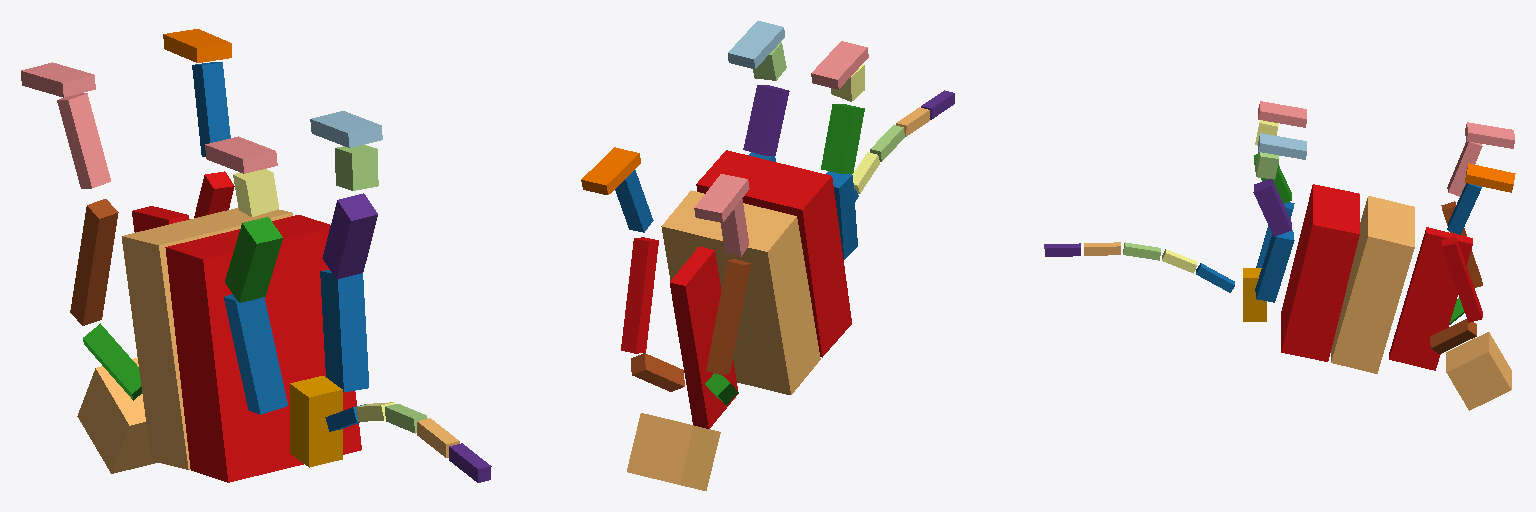
--- Render facts (derived) ---
Views: 3 orthographic renders of the robot side by side, from view 1: azimuth 30°, elevation 25°; view 2: azimuth 150°, elevation 25°; view 3: azimuth 270°, elevation 25°.
Robot: Wolf_Skeleton — 76 links, 75 joints (75 revolute); root link base_link; default pose: every joint at zero.
Links seen in each view (by area): view 1: link_136_Bauch_Y, link_137_Bauch.001_Y, link_139_Hals_Y, link_162_Oberschenkel_L_Y, link_167_Oberschenkel_R_Y, base_link, link_153_Oberarm_R_Y, link_168_Unterschenkel_R_Y, link_163_Unterschenkel_L_Y, link_154_Unterarm_R_Y, link_149_Unterarm_L_Y, link_152_Schalterplatte_R_Y (+12 smaller); view 2: link_137_Bauch.001_Y, link_136_Bauch_Y, link_138_Brust_Y, link_139_Hals_Y, link_148_Oberarm_L_Y, link_153_Oberarm_R_Y, link_163_Unterschenkel_L_Y, link_168_Unterschenkel_R_Y, link_150_Vorderpfote_L_Y, link_170_Pfote2_R_Y, link_165_Pfote2_L_Y, link_155_Vorderpfote_R_Y (+10 smaller); view 3: link_136_Bauch_Y, link_137_Bauch.001_Y, link_138_Brust_Y, link_139_Hals_Y, link_162_Oberschenkel_L_Y, link_148_Oberarm_L_Y, link_163_Unterschenkel_L_Y, base_link, link_150_Vorderpfote_L_Y, link_147_Schalterplatte_L_Y, link_155_Vorderpfote_R_Y, link_170_Pfote2_R_Y (+5 smaller).
Link boxes in pixels (<box>): link_136_Bauch_Y: <box>165,215,361,482</box>; link_137_Bauch.001_Y: <box>122,208,292,469</box>; link_139_Hals_Y: <box>77,358,157,473</box>; link_162_Oberschenkel_L_Y: <box>320,270,368,391</box>; link_167_Oberschenkel_R_Y: <box>224,294,287,414</box>; base_link: <box>290,376,342,467</box>; link_153_Oberarm_R_Y: <box>70,199,118,325</box>; link_168_Unterschenkel_R_Y: <box>225,217,282,302</box>; link_163_Unterschenkel_L_Y: <box>322,193,377,279</box>; link_154_Unterarm_R_Y: <box>57,93,110,188</box>; link_149_Unterarm_L_Y: <box>192,62,230,156</box>; link_152_Schalterplatte_R_Y: <box>83,323,141,400</box>; link_137_Bauch.001_Y: <box>661,190,820,394</box>; link_136_Bauch_Y: <box>696,150,851,357</box>; link_138_Brust_Y: <box>670,246,738,428</box>; link_139_Hals_Y: <box>627,413,720,490</box>; link_148_Oberarm_L_Y: <box>621,237,658,353</box>; link_153_Oberarm_R_Y: <box>706,259,750,374</box>; link_163_Unterschenkel_L_Y: <box>743,85,789,155</box>; link_168_Unterschenkel_R_Y: <box>821,104,864,173</box>; link_150_Vorderpfote_L_Y: <box>581,147,640,194</box>; link_170_Pfote2_R_Y: <box>811,41,868,89</box>; link_165_Pfote2_L_Y: <box>728,21,784,68</box>; link_155_Vorderpfote_R_Y: <box>694,174,749,222</box>; link_136_Bauch_Y: <box>1281,184,1359,361</box>; link_137_Bauch.001_Y: <box>1331,196,1414,373</box>; link_138_Brust_Y: <box>1389,227,1472,370</box>; link_139_Hals_Y: <box>1446,332,1511,410</box>; link_162_Oberschenkel_L_Y: <box>1255,230,1294,302</box>; link_148_Oberarm_L_Y: <box>1441,237,1482,322</box>; link_163_Unterschenkel_L_Y: <box>1253,179,1291,236</box>; base_link: <box>1243,268,1266,321</box>; link_150_Vorderpfote_L_Y: <box>1465,163,1515,192</box>; link_147_Schalterplatte_L_Y: <box>1430,319,1476,353</box>; link_155_Vorderpfote_R_Y: <box>1465,122,1514,148</box>; link_170_Pfote2_R_Y: <box>1258,101,1306,127</box>.
Size in the robot's own frame: 0.2654 by 0.9769 by 0.6378 metres.
Geometry: primitives only (box / cylinder / sphere), no mesh files.

robot.urdf — Wolf_Skeleton:
<?xml version='1.0' encoding='UTF-8'?>
<robot name="Wolf_Skeleton">
  <link name="base_link">
    <inertial>
      <origin xyz="0.0 0.0 0.0" rpy="0.0 -0.0 0.0"/>
      <mass value="1.0"/>
      <inertia ixx="1.0" ixy="0.0" ixz="0.0" iyy="1.0" iyz="0.0" izz="1.0"/>
    </inertial>
    <visual>
      <geometry>
        <box size="0.05 0.05 0.1 "/>
      </geometry>
      <origin xyz="0.0 0.03705602511763573 0.0" rpy="0.0 0.0 0.0"/>
    </visual>
    <collision>
      <geometry>
        <box size="0.05 0.05 0.1 "/>
      </geometry>
      <origin xyz="0.0 0.03705602511763573 0.0" rpy="0.0 0.0 0.0"/>
    </collision>
  </link>
  <link name="link_136_Bauch_R">
    <inertial>
      <origin xyz="0.0 0.0 0.0" rpy="0.0 -0.0 0.0"/>
      <mass value="1.0"/>
      <inertia ixx="1.0" ixy="0.0" ixz="0.0" iyy="1.0" iyz="0.0" izz="1.0"/>
    </inertial>
    <collision name="collision">
      <geometry>
        <sphere radius="0.05"/>
      </geometry>
      <origin xyz="0.0 0.0 0.0" rpy="0.0 -0.0 0.0"/>
    </collision>
  </link>
  <link name="link_136_Bauch_P">
    <inertial>
      <origin xyz="0.0 0.0 0.0" rpy="0.0 -0.0 0.0"/>
      <mass value="1.0"/>
      <inertia ixx="1.0" ixy="0.0" ixz="0.0" iyy="1.0" iyz="0.0" izz="1.0"/>
    </inertial>
    <collision name="collision">
      <geometry>
        <sphere radius="0.05"/>
      </geometry>
      <origin xyz="0.0 0.0 0.0" rpy="0.0 -0.0 0.0"/>
    </collision>
  </link>
  <link name="link_136_Bauch_Y">
    <inertial>
      <origin xyz="0.0 0.0 0.0" rpy="0.0 -0.0 0.0"/>
      <mass value="1.0"/>
      <inertia ixx="1.0" ixy="0.0" ixz="0.0" iyy="1.0" iyz="0.0" izz="1.0"/>
    </inertial>
    <visual>
      <geometry>
        <box size="0.2 0.1 0.3"/>
      </geometry>
      <material name="mat_col_(0.8901960784313725, 0.10196078431372549, 0.10980392156862745)"/>
      <origin xyz="0.0 0.05842259198427201 0.1" rpy="0.0 0.0 0.0"/>
    </visual>
    <collision>
      <geometry>
        <box size="0.2 0.1 0.3"/>
      </geometry>
      <origin xyz="0.0 0.05842259198427201 0.1" rpy="0.0 0.0 0.0"/>
    </collision>
  </link>
  <link name="link_137_Bauch.001_R">
    <inertial>
      <origin xyz="0.0 0.0 0.0" rpy="0.0 -0.0 0.0"/>
      <mass value="1.0"/>
      <inertia ixx="1.0" ixy="0.0" ixz="0.0" iyy="1.0" iyz="0.0" izz="1.0"/>
    </inertial>
    <collision name="collision">
      <geometry>
        <sphere radius="0.05"/>
      </geometry>
      <origin xyz="0.0 0.0 0.0" rpy="0.0 -0.0 0.0"/>
    </collision>
  </link>
  <link name="link_137_Bauch.001_P">
    <inertial>
      <origin xyz="0.0 0.0 0.0" rpy="0.0 -0.0 0.0"/>
      <mass value="1.0"/>
      <inertia ixx="1.0" ixy="0.0" ixz="0.0" iyy="1.0" iyz="0.0" izz="1.0"/>
    </inertial>
    <collision name="collision">
      <geometry>
        <sphere radius="0.05"/>
      </geometry>
      <origin xyz="0.0 0.0 0.0" rpy="0.0 -0.0 0.0"/>
    </collision>
  </link>
  <link name="link_137_Bauch.001_Y">
    <inertial>
      <origin xyz="0.0 0.0 0.0" rpy="0.0 -0.0 0.0"/>
      <mass value="1.0"/>
      <inertia ixx="1.0" ixy="0.0" ixz="0.0" iyy="1.0" iyz="0.0" izz="1.0"/>
    </inertial>
    <visual>
      <geometry>
        <box size="0.2 0.1 0.3"/>
      </geometry>
      <material name="mat_col_(0.9921568627450981, 0.7490196078431373, 0.43529411764705883)"/>
      <origin xyz="0.0 0.05777106463909149 0.1" rpy="0.0 0.0 0.0"/>
    </visual>
    <collision>
      <geometry>
        <box size="0.2 0.1 0.3"/>
      </geometry>
      <origin xyz="0.0 0.05777106463909149 0.1" rpy="0.0 0.0 0.0"/>
    </collision>
  </link>
  <link name="link_138_Brust_R">
    <inertial>
      <origin xyz="0.0 0.0 0.0" rpy="0.0 -0.0 0.0"/>
      <mass value="1.0"/>
      <inertia ixx="1.0" ixy="0.0" ixz="0.0" iyy="1.0" iyz="0.0" izz="1.0"/>
    </inertial>
    <collision name="collision">
      <geometry>
        <sphere radius="0.05"/>
      </geometry>
      <origin xyz="0.0 0.0 0.0" rpy="0.0 -0.0 0.0"/>
    </collision>
  </link>
  <link name="link_138_Brust_P">
    <inertial>
      <origin xyz="0.0 0.0 0.0" rpy="0.0 -0.0 0.0"/>
      <mass value="1.0"/>
      <inertia ixx="1.0" ixy="0.0" ixz="0.0" iyy="1.0" iyz="0.0" izz="1.0"/>
    </inertial>
    <collision name="collision">
      <geometry>
        <sphere radius="0.05"/>
      </geometry>
      <origin xyz="0.0 0.0 0.0" rpy="0.0 -0.0 0.0"/>
    </collision>
  </link>
  <link name="link_138_Brust_Y">
    <inertial>
      <origin xyz="0.0 0.0 0.0" rpy="0.0 -0.0 0.0"/>
      <mass value="1.0"/>
      <inertia ixx="1.0" ixy="0.0" ixz="0.0" iyy="1.0" iyz="0.0" izz="1.0"/>
    </inertial>
    <visual>
      <geometry>
        <box size="0.03 0.1  0.3 "/>
      </geometry>
      <material name="mat_col_(0.8901960784313725, 0.10196078431372549, 0.10980392156862745)"/>
      <origin xyz="0.0 0.07590883791446686 0.1" rpy="0.0 0.0 0.0"/>
    </visual>
    <collision>
      <geometry>
        <box size="0.03 0.1  0.3 "/>
      </geometry>
      <origin xyz="0.0 0.07590883791446686 0.1" rpy="0.0 0.0 0.0"/>
    </collision>
  </link>
  <link name="link_139_Hals_R">
    <inertial>
      <origin xyz="0.0 0.0 0.0" rpy="0.0 -0.0 0.0"/>
      <mass value="1.0"/>
      <inertia ixx="1.0" ixy="0.0" ixz="0.0" iyy="1.0" iyz="0.0" izz="1.0"/>
    </inertial>
    <collision name="collision">
      <geometry>
        <sphere radius="0.05"/>
      </geometry>
      <origin xyz="0.0 0.0 0.0" rpy="0.0 -0.0 0.0"/>
    </collision>
  </link>
  <link name="link_139_Hals_P">
    <inertial>
      <origin xyz="0.0 0.0 0.0" rpy="0.0 -0.0 0.0"/>
      <mass value="1.0"/>
      <inertia ixx="1.0" ixy="0.0" ixz="0.0" iyy="1.0" iyz="0.0" izz="1.0"/>
    </inertial>
    <collision name="collision">
      <geometry>
        <sphere radius="0.05"/>
      </geometry>
      <origin xyz="0.0 0.0 0.0" rpy="0.0 -0.0 0.0"/>
    </collision>
  </link>
  <link name="link_139_Hals_Y">
    <inertial>
      <origin xyz="0.0 0.0 0.0" rpy="0.0 -0.0 0.0"/>
      <mass value="1.0"/>
      <inertia ixx="1.0" ixy="0.0" ixz="0.0" iyy="1.0" iyz="0.0" izz="1.0"/>
    </inertial>
    <visual>
      <geometry>
        <box size="0.1 0.1 0.1"/>
      </geometry>
      <material name="mat_col_(0.9921568627450981, 0.7490196078431373, 0.43529411764705883)"/>
      <origin xyz="0.0 0.13 0.0" rpy="0.0 0.0 0.0"/>
    </visual>
    <collision>
      <geometry>
        <box size="0.1 0.1 0.1"/>
      </geometry>
      <origin xyz="0.0 0.13 0.0" rpy="0.0 0.0 0.0"/>
    </collision>
  </link>
  <link name="link_147_Schalterplatte_L_R">
    <inertial>
      <origin xyz="0.0 0.0 0.0" rpy="0.0 -0.0 0.0"/>
      <mass value="1.0"/>
      <inertia ixx="1.0" ixy="0.0" ixz="0.0" iyy="1.0" iyz="0.0" izz="1.0"/>
    </inertial>
    <collision name="collision">
      <geometry>
        <sphere radius="0.05"/>
      </geometry>
      <origin xyz="0.0 0.0 0.0" rpy="0.0 -0.0 0.0"/>
    </collision>
  </link>
  <link name="link_147_Schalterplatte_L_P">
    <inertial>
      <origin xyz="0.0 0.0 0.0" rpy="0.0 -0.0 0.0"/>
      <mass value="1.0"/>
      <inertia ixx="1.0" ixy="0.0" ixz="0.0" iyy="1.0" iyz="0.0" izz="1.0"/>
    </inertial>
    <collision name="collision">
      <geometry>
        <sphere radius="0.05"/>
      </geometry>
      <origin xyz="0.0 0.0 0.0" rpy="0.0 -0.0 0.0"/>
    </collision>
  </link>
  <link name="link_147_Schalterplatte_L_Y">
    <inertial>
      <origin xyz="0.0 0.0 0.0" rpy="0.0 -0.0 0.0"/>
      <mass value="1.0"/>
      <inertia ixx="1.0" ixy="0.0" ixz="0.0" iyy="1.0" iyz="0.0" izz="1.0"/>
    </inertial>
    <visual>
      <geometry>
        <box size="0.03 0.1  0.03"/>
      </geometry>
      <material name="mat_col_(0.6941176470588235, 0.34901960784313724, 0.1568627450980392)"/>
      <origin xyz="0.0 0.07660629540681839 0.0" rpy="0.0 0.0 0.0"/>
    </visual>
    <collision>
      <geometry>
        <box size="0.03 0.1  0.03"/>
      </geometry>
      <origin xyz="0.0 0.07660629540681839 0.0" rpy="0.0 0.0 0.0"/>
    </collision>
  </link>
  <link name="link_148_Oberarm_L_R">
    <inertial>
      <origin xyz="0.0 0.0 0.0" rpy="0.0 -0.0 0.0"/>
      <mass value="1.0"/>
      <inertia ixx="1.0" ixy="0.0" ixz="0.0" iyy="1.0" iyz="0.0" izz="1.0"/>
    </inertial>
    <collision name="collision">
      <geometry>
        <sphere radius="0.05"/>
      </geometry>
      <origin xyz="0.0 0.0 0.0" rpy="0.0 -0.0 0.0"/>
    </collision>
  </link>
  <link name="link_148_Oberarm_L_P">
    <inertial>
      <origin xyz="0.0 0.0 0.0" rpy="0.0 -0.0 0.0"/>
      <mass value="1.0"/>
      <inertia ixx="1.0" ixy="0.0" ixz="0.0" iyy="1.0" iyz="0.0" izz="1.0"/>
    </inertial>
    <collision name="collision">
      <geometry>
        <sphere radius="0.05"/>
      </geometry>
      <origin xyz="0.0 0.0 0.0" rpy="0.0 -0.0 0.0"/>
    </collision>
  </link>
  <link name="link_148_Oberarm_L_Y">
    <inertial>
      <origin xyz="0.0 0.0 0.0" rpy="0.0 -0.0 0.0"/>
      <mass value="1.0"/>
      <inertia ixx="1.0" ixy="0.0" ixz="0.0" iyy="1.0" iyz="0.0" izz="1.0"/>
    </inertial>
    <visual>
      <geometry>
        <box size="0.03       0.18659736 0.03      "/>
      </geometry>
      <material name="mat_col_(0.8901960784313725, 0.10196078431372549, 0.10980392156862745)"/>
      <origin xyz="0.0 0.10952453970909118 0.0" rpy="0.0 0.0 0.0"/>
    </visual>
    <collision>
      <geometry>
        <box size="0.03       0.18659736 0.03      "/>
      </geometry>
      <origin xyz="0.0 0.10952453970909118 0.0" rpy="0.0 0.0 0.0"/>
    </collision>
  </link>
  <link name="link_149_Unterarm_L_R">
    <inertial>
      <origin xyz="0.0 0.0 0.0" rpy="0.0 -0.0 0.0"/>
      <mass value="1.0"/>
      <inertia ixx="1.0" ixy="0.0" ixz="0.0" iyy="1.0" iyz="0.0" izz="1.0"/>
    </inertial>
    <collision name="collision">
      <geometry>
        <sphere radius="0.05"/>
      </geometry>
      <origin xyz="0.0 0.0 0.0" rpy="0.0 -0.0 0.0"/>
    </collision>
  </link>
  <link name="link_149_Unterarm_L_P">
    <inertial>
      <origin xyz="0.0 0.0 0.0" rpy="0.0 -0.0 0.0"/>
      <mass value="1.0"/>
      <inertia ixx="1.0" ixy="0.0" ixz="0.0" iyy="1.0" iyz="0.0" izz="1.0"/>
    </inertial>
    <collision name="collision">
      <geometry>
        <sphere radius="0.05"/>
      </geometry>
      <origin xyz="0.0 0.0 0.0" rpy="0.0 -0.0 0.0"/>
    </collision>
  </link>
  <link name="link_149_Unterarm_L_Y">
    <inertial>
      <origin xyz="0.0 0.0 0.0" rpy="0.0 -0.0 0.0"/>
      <mass value="1.0"/>
      <inertia ixx="1.0" ixy="0.0" ixz="0.0" iyy="1.0" iyz="0.0" izz="1.0"/>
    </inertial>
    <visual>
      <geometry>
        <box size="0.03 0.12 0.03"/>
      </geometry>
      <material name="mat_col_(0.12156862745098039, 0.47058823529411764, 0.7058823529411765)"/>
      <origin xyz="0.0 0.09212116599082946 0.0" rpy="0.0 0.0 0.0"/>
    </visual>
    <collision>
      <geometry>
        <box size="0.03 0.12 0.03"/>
      </geometry>
      <origin xyz="0.0 0.09212116599082946 0.0" rpy="0.0 0.0 0.0"/>
    </collision>
  </link>
  <link name="link_150_Vorderpfote_L_R">
    <inertial>
      <origin xyz="0.0 0.0 0.0" rpy="0.0 -0.0 0.0"/>
      <mass value="1.0"/>
      <inertia ixx="1.0" ixy="0.0" ixz="0.0" iyy="1.0" iyz="0.0" izz="1.0"/>
    </inertial>
    <collision name="collision">
      <geometry>
        <sphere radius="0.05"/>
      </geometry>
      <origin xyz="0.0 0.0 0.0" rpy="0.0 -0.0 0.0"/>
    </collision>
  </link>
  <link name="link_150_Vorderpfote_L_P">
    <inertial>
      <origin xyz="0.0 0.0 0.0" rpy="0.0 -0.0 0.0"/>
      <mass value="1.0"/>
      <inertia ixx="1.0" ixy="0.0" ixz="0.0" iyy="1.0" iyz="0.0" izz="1.0"/>
    </inertial>
    <collision name="collision">
      <geometry>
        <sphere radius="0.05"/>
      </geometry>
      <origin xyz="0.0 0.0 0.0" rpy="0.0 -0.0 0.0"/>
    </collision>
  </link>
  <link name="link_150_Vorderpfote_L_Y">
    <inertial>
      <origin xyz="0.0 0.0 0.0" rpy="0.0 -0.0 0.0"/>
      <mass value="1.0"/>
      <inertia ixx="1.0" ixy="0.0" ixz="0.0" iyy="1.0" iyz="0.0" izz="1.0"/>
    </inertial>
    <visual>
      <geometry>
        <box size="0.05 0.1  0.02"/>
      </geometry>
      <material name="mat_col_(1.0, 0.4980392156862745, 0.0)"/>
      <origin xyz="0.0 0.02431945167481899 0.0" rpy="0.0 0.0 0.0"/>
    </visual>
    <collision>
      <geometry>
        <box size="0.05 0.1  0.02"/>
      </geometry>
      <origin xyz="0.0 0.02431945167481899 0.0" rpy="0.0 0.0 0.0"/>
    </collision>
  </link>
  <link name="link_152_Schalterplatte_R_R">
    <inertial>
      <origin xyz="0.0 0.0 0.0" rpy="0.0 -0.0 0.0"/>
      <mass value="1.0"/>
      <inertia ixx="1.0" ixy="0.0" ixz="0.0" iyy="1.0" iyz="0.0" izz="1.0"/>
    </inertial>
    <collision name="collision">
      <geometry>
        <sphere radius="0.05"/>
      </geometry>
      <origin xyz="0.0 0.0 0.0" rpy="0.0 -0.0 0.0"/>
    </collision>
  </link>
  <link name="link_152_Schalterplatte_R_P">
    <inertial>
      <origin xyz="0.0 0.0 0.0" rpy="0.0 -0.0 0.0"/>
      <mass value="1.0"/>
      <inertia ixx="1.0" ixy="0.0" ixz="0.0" iyy="1.0" iyz="0.0" izz="1.0"/>
    </inertial>
    <collision name="collision">
      <geometry>
        <sphere radius="0.05"/>
      </geometry>
      <origin xyz="0.0 0.0 0.0" rpy="0.0 -0.0 0.0"/>
    </collision>
  </link>
  <link name="link_152_Schalterplatte_R_Y">
    <inertial>
      <origin xyz="0.0 0.0 0.0" rpy="0.0 -0.0 0.0"/>
      <mass value="1.0"/>
      <inertia ixx="1.0" ixy="0.0" ixz="0.0" iyy="1.0" iyz="0.0" izz="1.0"/>
    </inertial>
    <visual>
      <geometry>
        <box size="0.03 0.1  0.03"/>
      </geometry>
      <material name="mat_col_(0.2, 0.6274509803921569, 0.17254901960784313)"/>
      <origin xyz="0.0 0.07660628736019134 0.0" rpy="0.0 0.0 0.0"/>
    </visual>
    <collision>
      <geometry>
        <box size="0.03 0.1  0.03"/>
      </geometry>
      <origin xyz="0.0 0.07660628736019134 0.0" rpy="0.0 0.0 0.0"/>
    </collision>
  </link>
  <link name="link_153_Oberarm_R_R">
    <inertial>
      <origin xyz="0.0 0.0 0.0" rpy="0.0 -0.0 0.0"/>
      <mass value="1.0"/>
      <inertia ixx="1.0" ixy="0.0" ixz="0.0" iyy="1.0" iyz="0.0" izz="1.0"/>
    </inertial>
    <collision name="collision">
      <geometry>
        <sphere radius="0.05"/>
      </geometry>
      <origin xyz="0.0 0.0 0.0" rpy="0.0 -0.0 0.0"/>
    </collision>
  </link>
  <link name="link_153_Oberarm_R_P">
    <inertial>
      <origin xyz="0.0 0.0 0.0" rpy="0.0 -0.0 0.0"/>
      <mass value="1.0"/>
      <inertia ixx="1.0" ixy="0.0" ixz="0.0" iyy="1.0" iyz="0.0" izz="1.0"/>
    </inertial>
    <collision name="collision">
      <geometry>
        <sphere radius="0.05"/>
      </geometry>
      <origin xyz="0.0 0.0 0.0" rpy="0.0 -0.0 0.0"/>
    </collision>
  </link>
  <link name="link_153_Oberarm_R_Y">
    <inertial>
      <origin xyz="0.0 0.0 0.0" rpy="0.0 -0.0 0.0"/>
      <mass value="1.0"/>
      <inertia ixx="1.0" ixy="0.0" ixz="0.0" iyy="1.0" iyz="0.0" izz="1.0"/>
    </inertial>
    <visual>
      <geometry>
        <box size="0.03       0.18659745 0.03      "/>
      </geometry>
      <material name="mat_col_(0.6941176470588235, 0.34901960784313724, 0.1568627450980392)"/>
      <origin xyz="0.0 0.10952458798885345 0.0" rpy="0.0 0.0 0.0"/>
    </visual>
    <collision>
      <geometry>
        <box size="0.03       0.18659745 0.03      "/>
      </geometry>
      <origin xyz="0.0 0.10952458798885345 0.0" rpy="0.0 0.0 0.0"/>
    </collision>
  </link>
  <link name="link_154_Unterarm_R_R">
    <inertial>
      <origin xyz="0.0 0.0 0.0" rpy="0.0 -0.0 0.0"/>
      <mass value="1.0"/>
      <inertia ixx="1.0" ixy="0.0" ixz="0.0" iyy="1.0" iyz="0.0" izz="1.0"/>
    </inertial>
    <collision name="collision">
      <geometry>
        <sphere radius="0.05"/>
      </geometry>
      <origin xyz="0.0 0.0 0.0" rpy="0.0 -0.0 0.0"/>
    </collision>
  </link>
  <link name="link_154_Unterarm_R_P">
    <inertial>
      <origin xyz="0.0 0.0 0.0" rpy="0.0 -0.0 0.0"/>
      <mass value="1.0"/>
      <inertia ixx="1.0" ixy="0.0" ixz="0.0" iyy="1.0" iyz="0.0" izz="1.0"/>
    </inertial>
    <collision name="collision">
      <geometry>
        <sphere radius="0.05"/>
      </geometry>
      <origin xyz="0.0 0.0 0.0" rpy="0.0 -0.0 0.0"/>
    </collision>
  </link>
  <link name="link_154_Unterarm_R_Y">
    <inertial>
      <origin xyz="0.0 0.0 0.0" rpy="0.0 -0.0 0.0"/>
      <mass value="1.0"/>
      <inertia ixx="1.0" ixy="0.0" ixz="0.0" iyy="1.0" iyz="0.0" izz="1.0"/>
    </inertial>
    <visual>
      <geometry>
        <box size="0.03 0.12 0.03"/>
      </geometry>
      <material name="mat_col_(0.984313725490196, 0.6039215686274509, 0.6)"/>
      <origin xyz="0.0 0.0921206670999527 0.0" rpy="0.0 0.0 0.0"/>
    </visual>
    <collision>
      <geometry>
        <box size="0.03 0.12 0.03"/>
      </geometry>
      <origin xyz="0.0 0.0921206670999527 0.0" rpy="0.0 0.0 0.0"/>
    </collision>
  </link>
  <link name="link_155_Vorderpfote_R_R">
    <inertial>
      <origin xyz="0.0 0.0 0.0" rpy="0.0 -0.0 0.0"/>
      <mass value="1.0"/>
      <inertia ixx="1.0" ixy="0.0" ixz="0.0" iyy="1.0" iyz="0.0" izz="1.0"/>
    </inertial>
    <collision name="collision">
      <geometry>
        <sphere radius="0.05"/>
      </geometry>
      <origin xyz="0.0 0.0 0.0" rpy="0.0 -0.0 0.0"/>
    </collision>
  </link>
  <link name="link_155_Vorderpfote_R_P">
    <inertial>
      <origin xyz="0.0 0.0 0.0" rpy="0.0 -0.0 0.0"/>
      <mass value="1.0"/>
      <inertia ixx="1.0" ixy="0.0" ixz="0.0" iyy="1.0" iyz="0.0" izz="1.0"/>
    </inertial>
    <collision name="collision">
      <geometry>
        <sphere radius="0.05"/>
      </geometry>
      <origin xyz="0.0 0.0 0.0" rpy="0.0 -0.0 0.0"/>
    </collision>
  </link>
  <link name="link_155_Vorderpfote_R_Y">
    <inertial>
      <origin xyz="0.0 0.0 0.0" rpy="0.0 -0.0 0.0"/>
      <mass value="1.0"/>
      <inertia ixx="1.0" ixy="0.0" ixz="0.0" iyy="1.0" iyz="0.0" izz="1.0"/>
    </inertial>
    <visual>
      <geometry>
        <box size="0.05 0.1  0.02"/>
      </geometry>
      <material name="mat_col_(0.984313725490196, 0.6039215686274509, 0.6)"/>
      <origin xyz="0.0 0.024320004880428313 0.0" rpy="0.0 0.0 0.0"/>
    </visual>
    <collision>
      <geometry>
        <box size="0.05 0.1  0.02"/>
      </geometry>
      <origin xyz="0.0 0.024320004880428313 0.0" rpy="0.0 0.0 0.0"/>
    </collision>
  </link>
  <link name="link_157_Schwanz_R">
    <inertial>
      <origin xyz="0.0 0.0 0.0" rpy="0.0 -0.0 0.0"/>
      <mass value="1.0"/>
      <inertia ixx="1.0" ixy="0.0" ixz="0.0" iyy="1.0" iyz="0.0" izz="1.0"/>
    </inertial>
    <collision name="collision">
      <geometry>
        <sphere radius="0.05"/>
      </geometry>
      <origin xyz="0.0 0.0 0.0" rpy="0.0 -0.0 0.0"/>
    </collision>
  </link>
  <link name="link_157_Schwanz_P">
    <inertial>
      <origin xyz="0.0 0.0 0.0" rpy="0.0 -0.0 0.0"/>
      <mass value="1.0"/>
      <inertia ixx="1.0" ixy="0.0" ixz="0.0" iyy="1.0" iyz="0.0" izz="1.0"/>
    </inertial>
    <collision name="collision">
      <geometry>
        <sphere radius="0.05"/>
      </geometry>
      <origin xyz="0.0 0.0 0.0" rpy="0.0 -0.0 0.0"/>
    </collision>
  </link>
  <link name="link_157_Schwanz_Y">
    <inertial>
      <origin xyz="0.0 0.0 0.0" rpy="0.0 -0.0 0.0"/>
      <mass value="1.0"/>
      <inertia ixx="1.0" ixy="0.0" ixz="0.0" iyy="1.0" iyz="0.0" izz="1.0"/>
    </inertial>
    <visual>
      <geometry>
        <box size="0.02       0.08375949 0.02      "/>
      </geometry>
      <material name="mat_col_(0.12156862745098039, 0.47058823529411764, 0.7058823529411765)"/>
      <origin xyz="0.0 0.04916317731142044 0.0" rpy="0.0 0.0 0.0"/>
    </visual>
    <collision>
      <geometry>
        <box size="0.02       0.08375949 0.02      "/>
      </geometry>
      <origin xyz="0.0 0.04916317731142044 0.0" rpy="0.0 0.0 0.0"/>
    </collision>
  </link>
  <link name="link_158_Schwanz.001_R">
    <inertial>
      <origin xyz="0.0 0.0 0.0" rpy="0.0 -0.0 0.0"/>
      <mass value="1.0"/>
      <inertia ixx="1.0" ixy="0.0" ixz="0.0" iyy="1.0" iyz="0.0" izz="1.0"/>
    </inertial>
    <collision name="collision">
      <geometry>
        <sphere radius="0.05"/>
      </geometry>
      <origin xyz="0.0 0.0 0.0" rpy="0.0 -0.0 0.0"/>
    </collision>
  </link>
  <link name="link_158_Schwanz.001_P">
    <inertial>
      <origin xyz="0.0 0.0 0.0" rpy="0.0 -0.0 0.0"/>
      <mass value="1.0"/>
      <inertia ixx="1.0" ixy="0.0" ixz="0.0" iyy="1.0" iyz="0.0" izz="1.0"/>
    </inertial>
    <collision name="collision">
      <geometry>
        <sphere radius="0.05"/>
      </geometry>
      <origin xyz="0.0 0.0 0.0" rpy="0.0 -0.0 0.0"/>
    </collision>
  </link>
  <link name="link_158_Schwanz.001_Y">
    <inertial>
      <origin xyz="0.0 0.0 0.0" rpy="0.0 -0.0 0.0"/>
      <mass value="1.0"/>
      <inertia ixx="1.0" ixy="0.0" ixz="0.0" iyy="1.0" iyz="0.0" izz="1.0"/>
    </inertial>
    <visual>
      <geometry>
        <box size="0.02       0.07227241 0.02      "/>
      </geometry>
      <material name="mat_col_(1.0, 1.0, 0.6)"/>
      <origin xyz="0.0 0.04242076367139816 0.0" rpy="0.0 0.0 0.0"/>
    </visual>
    <collision>
      <geometry>
        <box size="0.02       0.07227241 0.02      "/>
      </geometry>
      <origin xyz="0.0 0.04242076367139816 0.0" rpy="0.0 0.0 0.0"/>
    </collision>
  </link>
  <link name="link_159_Schwanz.002_R">
    <inertial>
      <origin xyz="0.0 0.0 0.0" rpy="0.0 -0.0 0.0"/>
      <mass value="1.0"/>
      <inertia ixx="1.0" ixy="0.0" ixz="0.0" iyy="1.0" iyz="0.0" izz="1.0"/>
    </inertial>
    <collision name="collision">
      <geometry>
        <sphere radius="0.05"/>
      </geometry>
      <origin xyz="0.0 0.0 0.0" rpy="0.0 -0.0 0.0"/>
    </collision>
  </link>
  <link name="link_159_Schwanz.002_P">
    <inertial>
      <origin xyz="0.0 0.0 0.0" rpy="0.0 -0.0 0.0"/>
      <mass value="1.0"/>
      <inertia ixx="1.0" ixy="0.0" ixz="0.0" iyy="1.0" iyz="0.0" izz="1.0"/>
    </inertial>
    <collision name="collision">
      <geometry>
        <sphere radius="0.05"/>
      </geometry>
      <origin xyz="0.0 0.0 0.0" rpy="0.0 -0.0 0.0"/>
    </collision>
  </link>
  <link name="link_159_Schwanz.002_Y">
    <inertial>
      <origin xyz="0.0 0.0 0.0" rpy="0.0 -0.0 0.0"/>
      <mass value="1.0"/>
      <inertia ixx="1.0" ixy="0.0" ixz="0.0" iyy="1.0" iyz="0.0" izz="1.0"/>
    </inertial>
    <visual>
      <geometry>
        <box size="0.02       0.07682311 0.02      "/>
      </geometry>
      <material name="mat_col_(0.6980392156862745, 0.8745098039215686, 0.5411764705882353)"/>
      <origin xyz="0.0 0.04509182542562485 0.0" rpy="0.0 0.0 0.0"/>
    </visual>
    <collision>
      <geometry>
        <box size="0.02       0.07682311 0.02      "/>
      </geometry>
      <origin xyz="0.0 0.04509182542562485 0.0" rpy="0.0 0.0 0.0"/>
    </collision>
  </link>
  <link name="link_160_Schwanz.003_R">
    <inertial>
      <origin xyz="0.0 0.0 0.0" rpy="0.0 -0.0 0.0"/>
      <mass value="1.0"/>
      <inertia ixx="1.0" ixy="0.0" ixz="0.0" iyy="1.0" iyz="0.0" izz="1.0"/>
    </inertial>
    <collision name="collision">
      <geometry>
        <sphere radius="0.05"/>
      </geometry>
      <origin xyz="0.0 0.0 0.0" rpy="0.0 -0.0 0.0"/>
    </collision>
  </link>
  <link name="link_160_Schwanz.003_P">
    <inertial>
      <origin xyz="0.0 0.0 0.0" rpy="0.0 -0.0 0.0"/>
      <mass value="1.0"/>
      <inertia ixx="1.0" ixy="0.0" ixz="0.0" iyy="1.0" iyz="0.0" izz="1.0"/>
    </inertial>
    <collision name="collision">
      <geometry>
        <sphere radius="0.05"/>
      </geometry>
      <origin xyz="0.0 0.0 0.0" rpy="0.0 -0.0 0.0"/>
    </collision>
  </link>
  <link name="link_160_Schwanz.003_Y">
    <inertial>
      <origin xyz="0.0 0.0 0.0" rpy="0.0 -0.0 0.0"/>
      <mass value="1.0"/>
      <inertia ixx="1.0" ixy="0.0" ixz="0.0" iyy="1.0" iyz="0.0" izz="1.0"/>
    </inertial>
    <visual>
      <geometry>
        <box size="0.02       0.07566371 0.02      "/>
      </geometry>
      <material name="mat_col_(0.9921568627450981, 0.7490196078431373, 0.43529411764705883)"/>
      <origin xyz="0.0 0.04441130608320236 0.0" rpy="0.0 0.0 0.0"/>
    </visual>
    <collision>
      <geometry>
        <box size="0.02       0.07566371 0.02      "/>
      </geometry>
      <origin xyz="0.0 0.04441130608320236 0.0" rpy="0.0 0.0 0.0"/>
    </collision>
  </link>
  <link name="link_161_Schwanz.003_end_R">
    <inertial>
      <origin xyz="0.0 0.0 0.0" rpy="0.0 -0.0 0.0"/>
      <mass value="1.0"/>
      <inertia ixx="1.0" ixy="0.0" ixz="0.0" iyy="1.0" iyz="0.0" izz="1.0"/>
    </inertial>
    <collision name="collision">
      <geometry>
        <sphere radius="0.05"/>
      </geometry>
      <origin xyz="0.0 0.0 0.0" rpy="0.0 -0.0 0.0"/>
    </collision>
  </link>
  <link name="link_161_Schwanz.003_end_P">
    <inertial>
      <origin xyz="0.0 0.0 0.0" rpy="0.0 -0.0 0.0"/>
      <mass value="1.0"/>
      <inertia ixx="1.0" ixy="0.0" ixz="0.0" iyy="1.0" iyz="0.0" izz="1.0"/>
    </inertial>
    <collision name="collision">
      <geometry>
        <sphere radius="0.05"/>
      </geometry>
      <origin xyz="0.0 0.0 0.0" rpy="0.0 -0.0 0.0"/>
    </collision>
  </link>
  <link name="link_161_Schwanz.003_end_Y">
    <inertial>
      <origin xyz="0.0 0.0 0.0" rpy="0.0 -0.0 0.0"/>
      <mass value="1.0"/>
      <inertia ixx="1.0" ixy="0.0" ixz="0.0" iyy="1.0" iyz="0.0" izz="1.0"/>
    </inertial>
    <visual>
      <geometry>
        <box size="0.02       0.07566356 0.02      "/>
      </geometry>
      <material name="mat_col_(0.41568627450980394, 0.23921568627450981, 0.6039215686274509)"/>
      <origin xyz="0.0 0.04441122159361839 0.0" rpy="0.0 0.0 0.0"/>
    </visual>
    <collision>
      <geometry>
        <box size="0.02       0.07566356 0.02      "/>
      </geometry>
      <origin xyz="0.0 0.04441122159361839 0.0" rpy="0.0 0.0 0.0"/>
    </collision>
  </link>
  <link name="link_162_Oberschenkel_L_R">
    <inertial>
      <origin xyz="0.0 0.0 0.0" rpy="0.0 -0.0 0.0"/>
      <mass value="1.0"/>
      <inertia ixx="1.0" ixy="0.0" ixz="0.0" iyy="1.0" iyz="0.0" izz="1.0"/>
    </inertial>
    <collision name="collision">
      <geometry>
        <sphere radius="0.05"/>
      </geometry>
      <origin xyz="0.0 0.0 0.0" rpy="0.0 -0.0 0.0"/>
    </collision>
  </link>
  <link name="link_162_Oberschenkel_L_P">
    <inertial>
      <origin xyz="0.0 0.0 0.0" rpy="0.0 -0.0 0.0"/>
      <mass value="1.0"/>
      <inertia ixx="1.0" ixy="0.0" ixz="0.0" iyy="1.0" iyz="0.0" izz="1.0"/>
    </inertial>
    <collision name="collision">
      <geometry>
        <sphere radius="0.05"/>
      </geometry>
      <origin xyz="0.0 0.0 0.0" rpy="0.0 -0.0 0.0"/>
    </collision>
  </link>
  <link name="link_162_Oberschenkel_L_Y">
    <inertial>
      <origin xyz="0.0 0.0 0.0" rpy="0.0 -0.0 0.0"/>
      <mass value="1.0"/>
      <inertia ixx="1.0" ixy="0.0" ixz="0.0" iyy="1.0" iyz="0.0" izz="1.0"/>
    </inertial>
    <visual>
      <geometry>
        <box size="0.04       0.15515257 0.04      "/>
      </geometry>
      <material name="mat_col_(0.12156862745098039, 0.47058823529411764, 0.7058823529411765)"/>
      <origin xyz="0.0 0.09106781423091888 0.0" rpy="0.0 0.0 0.0"/>
    </visual>
    <collision>
      <geometry>
        <box size="0.04       0.15515257 0.04      "/>
      </geometry>
      <origin xyz="0.0 0.09106781423091888 0.0" rpy="0.0 0.0 0.0"/>
    </collision>
  </link>
  <link name="link_163_Unterschenkel_L_R">
    <inertial>
      <origin xyz="0.0 0.0 0.0" rpy="0.0 -0.0 0.0"/>
      <mass value="1.0"/>
      <inertia ixx="1.0" ixy="0.0" ixz="0.0" iyy="1.0" iyz="0.0" izz="1.0"/>
    </inertial>
    <collision name="collision">
      <geometry>
        <sphere radius="0.05"/>
      </geometry>
      <origin xyz="0.0 0.0 0.0" rpy="0.0 -0.0 0.0"/>
    </collision>
  </link>
  <link name="link_163_Unterschenkel_L_P">
    <inertial>
      <origin xyz="0.0 0.0 0.0" rpy="0.0 -0.0 0.0"/>
      <mass value="1.0"/>
      <inertia ixx="1.0" ixy="0.0" ixz="0.0" iyy="1.0" iyz="0.0" izz="1.0"/>
    </inertial>
    <collision name="collision">
      <geometry>
        <sphere radius="0.05"/>
      </geometry>
      <origin xyz="0.0 0.0 0.0" rpy="0.0 -0.0 0.0"/>
    </collision>
  </link>
  <link name="link_163_Unterschenkel_L_Y">
    <inertial>
      <origin xyz="0.0 0.0 0.0" rpy="0.0 -0.0 0.0"/>
      <mass value="1.0"/>
      <inertia ixx="1.0" ixy="0.0" ixz="0.0" iyy="1.0" iyz="0.0" izz="1.0"/>
    </inertial>
    <visual>
      <geometry>
        <box size="0.04       0.10956304 0.04      "/>
      </geometry>
      <material name="mat_col_(0.41568627450980394, 0.23921568627450981, 0.6039215686274509)"/>
      <origin xyz="0.0 0.064308739900589 0.0" rpy="0.0 0.0 0.0"/>
    </visual>
    <collision>
      <geometry>
        <box size="0.04       0.10956304 0.04      "/>
      </geometry>
      <origin xyz="0.0 0.064308739900589 0.0" rpy="0.0 0.0 0.0"/>
    </collision>
  </link>
  <link name="link_164_Pfote1_L_R">
    <inertial>
      <origin xyz="0.0 0.0 0.0" rpy="0.0 -0.0 0.0"/>
      <mass value="1.0"/>
      <inertia ixx="1.0" ixy="0.0" ixz="0.0" iyy="1.0" iyz="0.0" izz="1.0"/>
    </inertial>
    <collision name="collision">
      <geometry>
        <sphere radius="0.05"/>
      </geometry>
      <origin xyz="0.0 0.0 0.0" rpy="0.0 -0.0 0.0"/>
    </collision>
  </link>
  <link name="link_164_Pfote1_L_P">
    <inertial>
      <origin xyz="0.0 0.0 0.0" rpy="0.0 -0.0 0.0"/>
      <mass value="1.0"/>
      <inertia ixx="1.0" ixy="0.0" ixz="0.0" iyy="1.0" iyz="0.0" izz="1.0"/>
    </inertial>
    <collision name="collision">
      <geometry>
        <sphere radius="0.05"/>
      </geometry>
      <origin xyz="0.0 0.0 0.0" rpy="0.0 -0.0 0.0"/>
    </collision>
  </link>
  <link name="link_164_Pfote1_L_Y">
    <inertial>
      <origin xyz="0.0 0.0 0.0" rpy="0.0 -0.0 0.0"/>
      <mass value="1.0"/>
      <inertia ixx="1.0" ixy="0.0" ixz="0.0" iyy="1.0" iyz="0.0" izz="1.0"/>
    </inertial>
    <visual>
      <geometry>
        <box size="0.04 0.05 0.04"/>
      </geometry>
      <material name="mat_col_(0.6980392156862745, 0.8745098039215686, 0.5411764705882353)"/>
      <origin xyz="0.0 0.05333176463842392 0.0" rpy="0.0 0.0 0.0"/>
    </visual>
    <collision>
      <geometry>
        <box size="0.04 0.05 0.04"/>
      </geometry>
      <origin xyz="0.0 0.05333176463842392 0.0" rpy="0.0 0.0 0.0"/>
    </collision>
  </link>
  <link name="link_165_Pfote2_L_R">
    <inertial>
      <origin xyz="0.0 0.0 0.0" rpy="0.0 -0.0 0.0"/>
      <mass value="1.0"/>
      <inertia ixx="1.0" ixy="0.0" ixz="0.0" iyy="1.0" iyz="0.0" izz="1.0"/>
    </inertial>
    <collision name="collision">
      <geometry>
        <sphere radius="0.05"/>
      </geometry>
      <origin xyz="0.0 0.0 0.0" rpy="0.0 -0.0 0.0"/>
    </collision>
  </link>
  <link name="link_165_Pfote2_L_P">
    <inertial>
      <origin xyz="0.0 0.0 0.0" rpy="0.0 -0.0 0.0"/>
      <mass value="1.0"/>
      <inertia ixx="1.0" ixy="0.0" ixz="0.0" iyy="1.0" iyz="0.0" izz="1.0"/>
    </inertial>
    <collision name="collision">
      <geometry>
        <sphere radius="0.05"/>
      </geometry>
      <origin xyz="0.0 0.0 0.0" rpy="0.0 -0.0 0.0"/>
    </collision>
  </link>
  <link name="link_165_Pfote2_L_Y">
    <inertial>
      <origin xyz="0.0 0.0 0.0" rpy="0.0 -0.0 0.0"/>
      <mass value="1.0"/>
      <inertia ixx="1.0" ixy="0.0" ixz="0.0" iyy="1.0" iyz="0.0" izz="1.0"/>
    </inertial>
    <visual>
      <geometry>
        <box size="0.05 0.1  0.02"/>
      </geometry>
      <material name="mat_col_(0.6509803921568628, 0.807843137254902, 0.8901960784313725)"/>
      <origin xyz="0.0 0.02452572897076607 0.0" rpy="0.0 0.0 0.0"/>
    </visual>
    <collision>
      <geometry>
        <box size="0.05 0.1  0.02"/>
      </geometry>
      <origin xyz="0.0 0.02452572897076607 0.0" rpy="0.0 0.0 0.0"/>
    </collision>
  </link>
  <link name="link_167_Oberschenkel_R_R">
    <inertial>
      <origin xyz="0.0 0.0 0.0" rpy="0.0 -0.0 0.0"/>
      <mass value="1.0"/>
      <inertia ixx="1.0" ixy="0.0" ixz="0.0" iyy="1.0" iyz="0.0" izz="1.0"/>
    </inertial>
    <collision name="collision">
      <geometry>
        <sphere radius="0.05"/>
      </geometry>
      <origin xyz="0.0 0.0 0.0" rpy="0.0 -0.0 0.0"/>
    </collision>
  </link>
  <link name="link_167_Oberschenkel_R_P">
    <inertial>
      <origin xyz="0.0 0.0 0.0" rpy="0.0 -0.0 0.0"/>
      <mass value="1.0"/>
      <inertia ixx="1.0" ixy="0.0" ixz="0.0" iyy="1.0" iyz="0.0" izz="1.0"/>
    </inertial>
    <collision name="collision">
      <geometry>
        <sphere radius="0.05"/>
      </geometry>
      <origin xyz="0.0 0.0 0.0" rpy="0.0 -0.0 0.0"/>
    </collision>
  </link>
  <link name="link_167_Oberschenkel_R_Y">
    <inertial>
      <origin xyz="0.0 0.0 0.0" rpy="0.0 -0.0 0.0"/>
      <mass value="1.0"/>
      <inertia ixx="1.0" ixy="0.0" ixz="0.0" iyy="1.0" iyz="0.0" izz="1.0"/>
    </inertial>
    <visual>
      <geometry>
        <box size="0.04       0.15515344 0.04      "/>
      </geometry>
      <material name="mat_col_(0.12156862745098039, 0.47058823529411764, 0.7058823529411765)"/>
      <origin xyz="0.0 0.0910683211684227 0.0" rpy="0.0 0.0 0.0"/>
    </visual>
    <collision>
      <geometry>
        <box size="0.04       0.15515344 0.04      "/>
      </geometry>
      <origin xyz="0.0 0.0910683211684227 0.0" rpy="0.0 0.0 0.0"/>
    </collision>
  </link>
  <link name="link_168_Unterschenkel_R_R">
    <inertial>
      <origin xyz="0.0 0.0 0.0" rpy="0.0 -0.0 0.0"/>
      <mass value="1.0"/>
      <inertia ixx="1.0" ixy="0.0" ixz="0.0" iyy="1.0" iyz="0.0" izz="1.0"/>
    </inertial>
    <collision name="collision">
      <geometry>
        <sphere radius="0.05"/>
      </geometry>
      <origin xyz="0.0 0.0 0.0" rpy="0.0 -0.0 0.0"/>
    </collision>
  </link>
  <link name="link_168_Unterschenkel_R_P">
    <inertial>
      <origin xyz="0.0 0.0 0.0" rpy="0.0 -0.0 0.0"/>
      <mass value="1.0"/>
      <inertia ixx="1.0" ixy="0.0" ixz="0.0" iyy="1.0" iyz="0.0" izz="1.0"/>
    </inertial>
    <collision name="collision">
      <geometry>
        <sphere radius="0.05"/>
      </geometry>
      <origin xyz="0.0 0.0 0.0" rpy="0.0 -0.0 0.0"/>
    </collision>
  </link>
  <link name="link_168_Unterschenkel_R_Y">
    <inertial>
      <origin xyz="0.0 0.0 0.0" rpy="0.0 -0.0 0.0"/>
      <mass value="1.0"/>
      <inertia ixx="1.0" ixy="0.0" ixz="0.0" iyy="1.0" iyz="0.0" izz="1.0"/>
    </inertial>
    <visual>
      <geometry>
        <box size="0.04       0.10956307 0.04      "/>
      </geometry>
      <material name="mat_col_(0.2, 0.6274509803921569, 0.17254901960784313)"/>
      <origin xyz="0.0 0.0643087600171566 0.0" rpy="0.0 0.0 0.0"/>
    </visual>
    <collision>
      <geometry>
        <box size="0.04       0.10956307 0.04      "/>
      </geometry>
      <origin xyz="0.0 0.0643087600171566 0.0" rpy="0.0 0.0 0.0"/>
    </collision>
  </link>
  <link name="link_169_Pfote1_R_R">
    <inertial>
      <origin xyz="0.0 0.0 0.0" rpy="0.0 -0.0 0.0"/>
      <mass value="1.0"/>
      <inertia ixx="1.0" ixy="0.0" ixz="0.0" iyy="1.0" iyz="0.0" izz="1.0"/>
    </inertial>
    <collision name="collision">
      <geometry>
        <sphere radius="0.05"/>
      </geometry>
      <origin xyz="0.0 0.0 0.0" rpy="0.0 -0.0 0.0"/>
    </collision>
  </link>
  <link name="link_169_Pfote1_R_P">
    <inertial>
      <origin xyz="0.0 0.0 0.0" rpy="0.0 -0.0 0.0"/>
      <mass value="1.0"/>
      <inertia ixx="1.0" ixy="0.0" ixz="0.0" iyy="1.0" iyz="0.0" izz="1.0"/>
    </inertial>
    <collision name="collision">
      <geometry>
        <sphere radius="0.05"/>
      </geometry>
      <origin xyz="0.0 0.0 0.0" rpy="0.0 -0.0 0.0"/>
    </collision>
  </link>
  <link name="link_169_Pfote1_R_Y">
    <inertial>
      <origin xyz="0.0 0.0 0.0" rpy="0.0 -0.0 0.0"/>
      <mass value="1.0"/>
      <inertia ixx="1.0" ixy="0.0" ixz="0.0" iyy="1.0" iyz="0.0" izz="1.0"/>
    </inertial>
    <visual>
      <geometry>
        <box size="0.04 0.05 0.04"/>
      </geometry>
      <material name="mat_col_(1.0, 1.0, 0.6)"/>
      <origin xyz="0.0 0.053331752568483354 0.0" rpy="0.0 0.0 0.0"/>
    </visual>
    <collision>
      <geometry>
        <box size="0.04 0.05 0.04"/>
      </geometry>
      <origin xyz="0.0 0.053331752568483354 0.0" rpy="0.0 0.0 0.0"/>
    </collision>
  </link>
  <link name="link_170_Pfote2_R_R">
    <inertial>
      <origin xyz="0.0 0.0 0.0" rpy="0.0 -0.0 0.0"/>
      <mass value="1.0"/>
      <inertia ixx="1.0" ixy="0.0" ixz="0.0" iyy="1.0" iyz="0.0" izz="1.0"/>
    </inertial>
    <collision name="collision">
      <geometry>
        <sphere radius="0.05"/>
      </geometry>
      <origin xyz="0.0 0.0 0.0" rpy="0.0 -0.0 0.0"/>
    </collision>
  </link>
  <link name="link_170_Pfote2_R_P">
    <inertial>
      <origin xyz="0.0 0.0 0.0" rpy="0.0 -0.0 0.0"/>
      <mass value="1.0"/>
      <inertia ixx="1.0" ixy="0.0" ixz="0.0" iyy="1.0" iyz="0.0" izz="1.0"/>
    </inertial>
    <collision name="collision">
      <geometry>
        <sphere radius="0.05"/>
      </geometry>
      <origin xyz="0.0 0.0 0.0" rpy="0.0 -0.0 0.0"/>
    </collision>
  </link>
  <link name="link_170_Pfote2_R_Y">
    <inertial>
      <origin xyz="0.0 0.0 0.0" rpy="0.0 -0.0 0.0"/>
      <mass value="1.0"/>
      <inertia ixx="1.0" ixy="0.0" ixz="0.0" iyy="1.0" iyz="0.0" izz="1.0"/>
    </inertial>
    <visual>
      <geometry>
        <box size="0.05 0.1  0.02"/>
      </geometry>
      <material name="mat_col_(0.984313725490196, 0.6039215686274509, 0.6)"/>
      <origin xyz="0.0 0.024525694772601126 0.0" rpy="0.0 0.0 0.0"/>
    </visual>
    <collision>
      <geometry>
        <box size="0.05 0.1  0.02"/>
      </geometry>
      <origin xyz="0.0 0.024525694772601126 0.0" rpy="0.0 0.0 0.0"/>
    </collision>
  </link>
  <joint name="joint_136_Bauch_R" type="revolute">
    <limit effort="100.0" velocity="3.0" lower="-1.5707963267948966" upper="1.5707963267948966"/>
    <parent link="base_link"/>
    <child link="link_136_Bauch_R"/>
    <axis xyz="1. 0. 0."/>
    <origin xyz="-0.0 0.094042 -0.035591" rpy="-0.220005 -0.0 0.0"/>
  </joint>
  <joint name="joint_136_Bauch_P" type="revolute">
    <limit effort="100.0" velocity="3.0" lower="-1.5707963267948966" upper="1.5707963267948966"/>
    <parent link="link_136_Bauch_R"/>
    <child link="link_136_Bauch_P"/>
    <axis xyz="0. 1. 0."/>
    <origin xyz="0.0 0.0 0.0" rpy="0.0 0.0 0.0"/>
  </joint>
  <joint name="joint_136_Bauch_Y" type="revolute">
    <limit effort="100.0" velocity="3.0" lower="-1.5707963267948966" upper="1.5707963267948966"/>
    <parent link="link_136_Bauch_P"/>
    <child link="link_136_Bauch_Y"/>
    <axis xyz="0. 0. 1."/>
    <origin xyz="0.0 0.0 0.0" rpy="0.0 0.0 0.0"/>
  </joint>
  <joint name="joint_137_Bauch.001_R" type="revolute">
    <limit effort="100.0" velocity="3.0" lower="-1.5707963267948966" upper="1.5707963267948966"/>
    <parent link="link_136_Bauch_Y"/>
    <child link="link_137_Bauch.001_R"/>
    <axis xyz="1. 0. 0."/>
    <origin xyz="0.0 0.10819 -0.0" rpy="-0.04118 0.0 0.0"/>
  </joint>
  <joint name="joint_137_Bauch.001_P" type="revolute">
    <limit effort="100.0" velocity="3.0" lower="-1.5707963267948966" upper="1.5707963267948966"/>
    <parent link="link_137_Bauch.001_R"/>
    <child link="link_137_Bauch.001_P"/>
    <axis xyz="0. 1. 0."/>
    <origin xyz="0.0 0.0 0.0" rpy="0.0 0.0 0.0"/>
  </joint>
  <joint name="joint_137_Bauch.001_Y" type="revolute">
    <limit effort="100.0" velocity="3.0" lower="-1.5707963267948966" upper="1.5707963267948966"/>
    <parent link="link_137_Bauch.001_P"/>
    <child link="link_137_Bauch.001_Y"/>
    <axis xyz="0. 0. 1."/>
    <origin xyz="0.0 0.0 0.0" rpy="0.0 0.0 0.0"/>
  </joint>
  <joint name="joint_138_Brust_R" type="revolute">
    <limit effort="100.0" velocity="3.0" lower="-1.5707963267948966" upper="1.5707963267948966"/>
    <parent link="link_137_Bauch.001_Y"/>
    <child link="link_138_Brust_R"/>
    <axis xyz="1. 0. 0."/>
    <origin xyz="-0.0 0.106983 0.0" rpy="0.0 0.0 0.0"/>
  </joint>
  <joint name="joint_138_Brust_P" type="revolute">
    <limit effort="100.0" velocity="3.0" lower="-1.5707963267948966" upper="1.5707963267948966"/>
    <parent link="link_138_Brust_R"/>
    <child link="link_138_Brust_P"/>
    <axis xyz="0. 1. 0."/>
    <origin xyz="0.0 0.0 0.0" rpy="0.0 0.0 0.0"/>
  </joint>
  <joint name="joint_138_Brust_Y" type="revolute">
    <limit effort="100.0" velocity="3.0" lower="-1.5707963267948966" upper="1.5707963267948966"/>
    <parent link="link_138_Brust_P"/>
    <child link="link_138_Brust_Y"/>
    <axis xyz="0. 0. 1."/>
    <origin xyz="0.0 0.0 0.0" rpy="0.0 0.0 0.0"/>
  </joint>
  <joint name="joint_139_Hals_R" type="revolute">
    <limit effort="100.0" velocity="3.0" lower="-1.5707963267948966" upper="1.5707963267948966"/>
    <parent link="link_138_Brust_Y"/>
    <child link="link_139_Hals_R"/>
    <axis xyz="1. 0. 0."/>
    <origin xyz="0.0 0.125802 0.060796" rpy="-0.818163 -0.0 -0.0"/>
  </joint>
  <joint name="joint_139_Hals_P" type="revolute">
    <limit effort="100.0" velocity="3.0" lower="-1.5707963267948966" upper="1.5707963267948966"/>
    <parent link="link_139_Hals_R"/>
    <child link="link_139_Hals_P"/>
    <axis xyz="0. 1. 0."/>
    <origin xyz="0.0 0.0 0.0" rpy="0.0 0.0 0.0"/>
  </joint>
  <joint name="joint_139_Hals_Y" type="revolute">
    <limit effort="100.0" velocity="3.0" lower="-1.5707963267948966" upper="1.5707963267948966"/>
    <parent link="link_139_Hals_P"/>
    <child link="link_139_Hals_Y"/>
    <axis xyz="0. 0. 1."/>
    <origin xyz="0.0 0.0 0.0" rpy="0.0 0.0 0.0"/>
  </joint>
  <joint name="joint_147_Schalterplatte_L_R" type="revolute">
    <limit effort="100.0" velocity="3.0" lower="-1.5707963267948966" upper="1.5707963267948966"/>
    <parent link="link_138_Brust_Y"/>
    <child link="link_147_Schalterplatte_L_R"/>
    <axis xyz="1. 0. 0."/>
    <origin xyz="0.038208 0.089257 0.0" rpy="1.0 0.5 0.19999999999999998"/>
  </joint>
  <joint name="joint_147_Schalterplatte_L_P" type="revolute">
    <limit effort="100.0" velocity="3.0" lower="-1.5707963267948966" upper="1.5707963267948966"/>
    <parent link="link_147_Schalterplatte_L_R"/>
    <child link="link_147_Schalterplatte_L_P"/>
    <axis xyz="0. 1. 0."/>
    <origin xyz="0.0 0.0 0.0" rpy="0.0 0.0 0.0"/>
  </joint>
  <joint name="joint_147_Schalterplatte_L_Y" type="revolute">
    <limit effort="100.0" velocity="3.0" lower="-1.5707963267948966" upper="1.5707963267948966"/>
    <parent link="link_147_Schalterplatte_L_P"/>
    <child link="link_147_Schalterplatte_L_Y"/>
    <axis xyz="0. 0. 1."/>
    <origin xyz="0.0 0.0 0.0" rpy="0.0 0.0 0.0"/>
  </joint>
  <joint name="joint_148_Oberarm_L_R" type="revolute">
    <limit effort="100.0" velocity="3.0" lower="-1.5707963267948966" upper="1.5707963267948966"/>
    <parent link="link_147_Schalterplatte_L_Y"/>
    <child link="link_148_Oberarm_L_R"/>
    <axis xyz="1. 0. 0."/>
    <origin xyz="-0.0 0.141864 0.0" rpy="1.1562 -0.429107 0.2271"/>
  </joint>
  <joint name="joint_148_Oberarm_L_P" type="revolute">
    <limit effort="100.0" velocity="3.0" lower="-1.5707963267948966" upper="1.5707963267948966"/>
    <parent link="link_148_Oberarm_L_R"/>
    <child link="link_148_Oberarm_L_P"/>
    <axis xyz="0. 1. 0."/>
    <origin xyz="0.0 0.0 0.0" rpy="0.0 0.0 0.0"/>
  </joint>
  <joint name="joint_148_Oberarm_L_Y" type="revolute">
    <limit effort="100.0" velocity="3.0" lower="-1.5707963267948966" upper="1.5707963267948966"/>
    <parent link="link_148_Oberarm_L_P"/>
    <child link="link_148_Oberarm_L_Y"/>
    <axis xyz="0. 0. 1."/>
    <origin xyz="0.0 0.0 0.0" rpy="0.0 0.0 0.0"/>
  </joint>
  <joint name="joint_149_Unterarm_L_R" type="revolute">
    <limit effort="100.0" velocity="3.0" lower="-1.5707963267948966" upper="1.5707963267948966"/>
    <parent link="link_148_Oberarm_L_Y"/>
    <child link="link_149_Unterarm_L_R"/>
    <axis xyz="1. 0. 0."/>
    <origin xyz="-0.0 0.202823 -0.0" rpy="-0.680181 -0.004629 -0.007738"/>
  </joint>
  <joint name="joint_149_Unterarm_L_P" type="revolute">
    <limit effort="100.0" velocity="3.0" lower="-1.5707963267948966" upper="1.5707963267948966"/>
    <parent link="link_149_Unterarm_L_R"/>
    <child link="link_149_Unterarm_L_P"/>
    <axis xyz="0. 1. 0."/>
    <origin xyz="0.0 0.0 0.0" rpy="0.0 0.0 0.0"/>
  </joint>
  <joint name="joint_149_Unterarm_L_Y" type="revolute">
    <limit effort="100.0" velocity="3.0" lower="-1.5707963267948966" upper="1.5707963267948966"/>
    <parent link="link_149_Unterarm_L_P"/>
    <child link="link_149_Unterarm_L_Y"/>
    <axis xyz="0. 0. 1."/>
    <origin xyz="0.0 0.0 0.0" rpy="0.0 0.0 0.0"/>
  </joint>
  <joint name="joint_150_Vorderpfote_L_R" type="revolute">
    <limit effort="100.0" velocity="3.0" lower="-1.5707963267948966" upper="1.5707963267948966"/>
    <parent link="link_149_Unterarm_L_Y"/>
    <child link="link_150_Vorderpfote_L_R"/>
    <axis xyz="1. 0. 0."/>
    <origin xyz="-0.0 0.170595 0.0" rpy="-1.399388 -0.018149 0.015267"/>
  </joint>
  <joint name="joint_150_Vorderpfote_L_P" type="revolute">
    <limit effort="100.0" velocity="3.0" lower="-1.5707963267948966" upper="1.5707963267948966"/>
    <parent link="link_150_Vorderpfote_L_R"/>
    <child link="link_150_Vorderpfote_L_P"/>
    <axis xyz="0. 1. 0."/>
    <origin xyz="0.0 0.0 0.0" rpy="0.0 0.0 0.0"/>
  </joint>
  <joint name="joint_150_Vorderpfote_L_Y" type="revolute">
    <limit effort="100.0" velocity="3.0" lower="-1.5707963267948966" upper="1.5707963267948966"/>
    <parent link="link_150_Vorderpfote_L_P"/>
    <child link="link_150_Vorderpfote_L_Y"/>
    <axis xyz="0. 0. 1."/>
    <origin xyz="0.0 0.0 0.0" rpy="0.0 0.0 0.0"/>
  </joint>
  <joint name="joint_152_Schalterplatte_R_R" type="revolute">
    <limit effort="100.0" velocity="3.0" lower="-1.5707963267948966" upper="1.5707963267948966"/>
    <parent link="link_138_Brust_Y"/>
    <child link="link_152_Schalterplatte_R_R"/>
    <axis xyz="1. 0. 0."/>
    <origin xyz="-0.038208 0.089257 0.0" rpy="1.0 -0.5 -0.19999999999999998"/>
  </joint>
  <joint name="joint_152_Schalterplatte_R_P" type="revolute">
    <limit effort="100.0" velocity="3.0" lower="-1.5707963267948966" upper="1.5707963267948966"/>
    <parent link="link_152_Schalterplatte_R_R"/>
    <child link="link_152_Schalterplatte_R_P"/>
    <axis xyz="0. 1. 0."/>
    <origin xyz="0.0 0.0 0.0" rpy="0.0 0.0 0.0"/>
  </joint>
  <joint name="joint_152_Schalterplatte_R_Y" type="revolute">
    <limit effort="100.0" velocity="3.0" lower="-1.5707963267948966" upper="1.5707963267948966"/>
    <parent link="link_152_Schalterplatte_R_P"/>
    <child link="link_152_Schalterplatte_R_Y"/>
    <axis xyz="0. 0. 1."/>
    <origin xyz="0.0 0.0 0.0" rpy="0.0 0.0 0.0"/>
  </joint>
  <joint name="joint_153_Oberarm_R_R" type="revolute">
    <limit effort="100.0" velocity="3.0" lower="-1.5707963267948966" upper="1.5707963267948966"/>
    <parent link="link_152_Schalterplatte_R_Y"/>
    <child link="link_153_Oberarm_R_R"/>
    <axis xyz="1. 0. 0."/>
    <origin xyz="-0.0 0.141863 0.0" rpy="1.1562 0.429107 -0.227099"/>
  </joint>
  <joint name="joint_153_Oberarm_R_P" type="revolute">
    <limit effort="100.0" velocity="3.0" lower="-1.5707963267948966" upper="1.5707963267948966"/>
    <parent link="link_153_Oberarm_R_R"/>
    <child link="link_153_Oberarm_R_P"/>
    <axis xyz="0. 1. 0."/>
    <origin xyz="0.0 0.0 0.0" rpy="0.0 0.0 0.0"/>
  </joint>
  <joint name="joint_153_Oberarm_R_Y" type="revolute">
    <limit effort="100.0" velocity="3.0" lower="-1.5707963267948966" upper="1.5707963267948966"/>
    <parent link="link_153_Oberarm_R_P"/>
    <child link="link_153_Oberarm_R_Y"/>
    <axis xyz="0. 0. 1."/>
    <origin xyz="0.0 0.0 0.0" rpy="0.0 0.0 0.0"/>
  </joint>
  <joint name="joint_154_Unterarm_R_R" type="revolute">
    <limit effort="100.0" velocity="3.0" lower="-1.5707963267948966" upper="1.5707963267948966"/>
    <parent link="link_153_Oberarm_R_Y"/>
    <child link="link_154_Unterarm_R_R"/>
    <axis xyz="1. 0. 0."/>
    <origin xyz="-0.0 0.202823 0.0" rpy="-0.680182 0.004629 0.007738"/>
  </joint>
  <joint name="joint_154_Unterarm_R_P" type="revolute">
    <limit effort="100.0" velocity="3.0" lower="-1.5707963267948966" upper="1.5707963267948966"/>
    <parent link="link_154_Unterarm_R_R"/>
    <child link="link_154_Unterarm_R_P"/>
    <axis xyz="0. 1. 0."/>
    <origin xyz="0.0 0.0 0.0" rpy="0.0 0.0 0.0"/>
  </joint>
  <joint name="joint_154_Unterarm_R_Y" type="revolute">
    <limit effort="100.0" velocity="3.0" lower="-1.5707963267948966" upper="1.5707963267948966"/>
    <parent link="link_154_Unterarm_R_P"/>
    <child link="link_154_Unterarm_R_Y"/>
    <axis xyz="0. 0. 1."/>
    <origin xyz="0.0 0.0 0.0" rpy="0.0 0.0 0.0"/>
  </joint>
  <joint name="joint_155_Vorderpfote_R_R" type="revolute">
    <limit effort="100.0" velocity="3.0" lower="-1.5707963267948966" upper="1.5707963267948966"/>
    <parent link="link_154_Unterarm_R_Y"/>
    <child link="link_155_Vorderpfote_R_R"/>
    <axis xyz="1. 0. 0."/>
    <origin xyz="-0.0 0.170594 -0.0" rpy="-1.401087 0.030231 -0.085539"/>
  </joint>
  <joint name="joint_155_Vorderpfote_R_P" type="revolute">
    <limit effort="100.0" velocity="3.0" lower="-1.5707963267948966" upper="1.5707963267948966"/>
    <parent link="link_155_Vorderpfote_R_R"/>
    <child link="link_155_Vorderpfote_R_P"/>
    <axis xyz="0. 1. 0."/>
    <origin xyz="0.0 0.0 0.0" rpy="0.0 0.0 0.0"/>
  </joint>
  <joint name="joint_155_Vorderpfote_R_Y" type="revolute">
    <limit effort="100.0" velocity="3.0" lower="-1.5707963267948966" upper="1.5707963267948966"/>
    <parent link="link_155_Vorderpfote_R_P"/>
    <child link="link_155_Vorderpfote_R_Y"/>
    <axis xyz="0. 0. 1."/>
    <origin xyz="0.0 0.0 0.0" rpy="0.0 0.0 0.0"/>
  </joint>
  <joint name="joint_157_Schwanz_R" type="revolute">
    <limit effort="100.0" velocity="3.0" lower="-1.5707963267948966" upper="1.5707963267948966"/>
    <parent link="base_link"/>
    <child link="link_157_Schwanz_R"/>
    <axis xyz="1. 0. 0."/>
    <origin xyz="-0.0 -0.002795 0.012527" rpy="2.596973 -0.0 -0.0"/>
  </joint>
  <joint name="joint_157_Schwanz_P" type="revolute">
    <limit effort="100.0" velocity="3.0" lower="-1.5707963267948966" upper="1.5707963267948966"/>
    <parent link="link_157_Schwanz_R"/>
    <child link="link_157_Schwanz_P"/>
    <axis xyz="0. 1. 0."/>
    <origin xyz="0.0 0.0 0.0" rpy="0.0 0.0 0.0"/>
  </joint>
  <joint name="joint_157_Schwanz_Y" type="revolute">
    <limit effort="100.0" velocity="3.0" lower="-1.5707963267948966" upper="1.5707963267948966"/>
    <parent link="link_157_Schwanz_P"/>
    <child link="link_157_Schwanz_Y"/>
    <axis xyz="0. 0. 1."/>
    <origin xyz="0.0 0.0 0.0" rpy="0.0 0.0 0.0"/>
  </joint>
  <joint name="joint_158_Schwanz.001_R" type="revolute">
    <limit effort="100.0" velocity="3.0" lower="-1.5707963267948966" upper="1.5707963267948966"/>
    <parent link="link_157_Schwanz_Y"/>
    <child link="link_158_Schwanz.001_R"/>
    <axis xyz="1. 0. 0."/>
    <origin xyz="-0.0 0.091043 0.0" rpy="0.132384 -0.0 -0.0"/>
  </joint>
  <joint name="joint_158_Schwanz.001_P" type="revolute">
    <limit effort="100.0" velocity="3.0" lower="-1.5707963267948966" upper="1.5707963267948966"/>
    <parent link="link_158_Schwanz.001_R"/>
    <child link="link_158_Schwanz.001_P"/>
    <axis xyz="0. 1. 0."/>
    <origin xyz="0.0 0.0 0.0" rpy="0.0 0.0 0.0"/>
  </joint>
  <joint name="joint_158_Schwanz.001_Y" type="revolute">
    <limit effort="100.0" velocity="3.0" lower="-1.5707963267948966" upper="1.5707963267948966"/>
    <parent link="link_158_Schwanz.001_P"/>
    <child link="link_158_Schwanz.001_Y"/>
    <axis xyz="0. 0. 1."/>
    <origin xyz="0.0 0.0 0.0" rpy="0.0 0.0 0.0"/>
  </joint>
  <joint name="joint_159_Schwanz.002_R" type="revolute">
    <limit effort="100.0" velocity="3.0" lower="-1.5707963267948966" upper="1.5707963267948966"/>
    <parent link="link_158_Schwanz.001_Y"/>
    <child link="link_159_Schwanz.002_R"/>
    <axis xyz="1. 0. 0."/>
    <origin xyz="0.0 0.078557 0.0" rpy="0.24113399999999996 0.0 -0.0"/>
  </joint>
  <joint name="joint_159_Schwanz.002_P" type="revolute">
    <limit effort="100.0" velocity="3.0" lower="-1.5707963267948966" upper="1.5707963267948966"/>
    <parent link="link_159_Schwanz.002_R"/>
    <child link="link_159_Schwanz.002_P"/>
    <axis xyz="0. 1. 0."/>
    <origin xyz="0.0 0.0 0.0" rpy="0.0 0.0 0.0"/>
  </joint>
  <joint name="joint_159_Schwanz.002_Y" type="revolute">
    <limit effort="100.0" velocity="3.0" lower="-1.5707963267948966" upper="1.5707963267948966"/>
    <parent link="link_159_Schwanz.002_P"/>
    <child link="link_159_Schwanz.002_Y"/>
    <axis xyz="0. 0. 1."/>
    <origin xyz="0.0 0.0 0.0" rpy="0.0 0.0 0.0"/>
  </joint>
  <joint name="joint_160_Schwanz.003_R" type="revolute">
    <limit effort="100.0" velocity="3.0" lower="-1.5707963267948966" upper="1.5707963267948966"/>
    <parent link="link_159_Schwanz.002_Y"/>
    <child link="link_160_Schwanz.003_R"/>
    <axis xyz="1. 0. 0."/>
    <origin xyz="-0.0 0.083503 -0.0" rpy="0.202521 0.0 0.0"/>
  </joint>
  <joint name="joint_160_Schwanz.003_P" type="revolute">
    <limit effort="100.0" velocity="3.0" lower="-1.5707963267948966" upper="1.5707963267948966"/>
    <parent link="link_160_Schwanz.003_R"/>
    <child link="link_160_Schwanz.003_P"/>
    <axis xyz="0. 1. 0."/>
    <origin xyz="0.0 0.0 0.0" rpy="0.0 0.0 0.0"/>
  </joint>
  <joint name="joint_160_Schwanz.003_Y" type="revolute">
    <limit effort="100.0" velocity="3.0" lower="-1.5707963267948966" upper="1.5707963267948966"/>
    <parent link="link_160_Schwanz.003_P"/>
    <child link="link_160_Schwanz.003_Y"/>
    <axis xyz="0. 0. 1."/>
    <origin xyz="0.0 0.0 0.0" rpy="0.0 0.0 0.0"/>
  </joint>
  <joint name="joint_161_Schwanz.003_end_R" type="revolute">
    <limit effort="100.0" velocity="3.0" lower="-1.5707963267948966" upper="1.5707963267948966"/>
    <parent link="link_160_Schwanz.003_Y"/>
    <child link="link_161_Schwanz.003_end_R"/>
    <axis xyz="1. 0. 0."/>
    <origin xyz="0.0 0.082243 -0.0" rpy="0.0 -0.0 0.0"/>
  </joint>
  <joint name="joint_161_Schwanz.003_end_P" type="revolute">
    <limit effort="100.0" velocity="3.0" lower="-1.5707963267948966" upper="1.5707963267948966"/>
    <parent link="link_161_Schwanz.003_end_R"/>
    <child link="link_161_Schwanz.003_end_P"/>
    <axis xyz="0. 1. 0."/>
    <origin xyz="0.0 0.0 0.0" rpy="0.0 0.0 0.0"/>
  </joint>
  <joint name="joint_161_Schwanz.003_end_Y" type="revolute">
    <limit effort="100.0" velocity="3.0" lower="-1.5707963267948966" upper="1.5707963267948966"/>
    <parent link="link_161_Schwanz.003_end_P"/>
    <child link="link_161_Schwanz.003_end_Y"/>
    <axis xyz="0. 0. 1."/>
    <origin xyz="0.0 0.0 0.0" rpy="0.0 0.0 0.0"/>
  </joint>
  <joint name="joint_162_Oberschenkel_L_R" type="revolute">
    <limit effort="100.0" velocity="3.0" lower="-1.5707963267948966" upper="1.5707963267948966"/>
    <parent link="base_link"/>
    <child link="link_162_Oberschenkel_L_R"/>
    <axis xyz="1. 0. 0."/>
    <origin xyz="0.05837 0.0543 0.011532" rpy="1.31303 0.110237 0.069464"/>
  </joint>
  <joint name="joint_162_Oberschenkel_L_P" type="revolute">
    <limit effort="100.0" velocity="3.0" lower="-1.5707963267948966" upper="1.5707963267948966"/>
    <parent link="link_162_Oberschenkel_L_R"/>
    <child link="link_162_Oberschenkel_L_P"/>
    <axis xyz="0. 1. 0."/>
    <origin xyz="0.0 0.0 0.0" rpy="0.0 0.0 0.0"/>
  </joint>
  <joint name="joint_162_Oberschenkel_L_Y" type="revolute">
    <limit effort="100.0" velocity="3.0" lower="-1.5707963267948966" upper="1.5707963267948966"/>
    <parent link="link_162_Oberschenkel_L_P"/>
    <child link="link_162_Oberschenkel_L_Y"/>
    <axis xyz="0. 0. 1."/>
    <origin xyz="0.0 0.0 0.0" rpy="0.0 0.0 0.0"/>
  </joint>
  <joint name="joint_163_Unterschenkel_L_R" type="revolute">
    <limit effort="100.0" velocity="3.0" lower="-1.5707963267948966" upper="1.5707963267948966"/>
    <parent link="link_162_Oberschenkel_L_Y"/>
    <child link="link_163_Unterschenkel_L_R"/>
    <axis xyz="1. 0. 0."/>
    <origin xyz="0.0 0.168644 0.0" rpy="0.652041 -0.114489 0.09771499999999998"/>
  </joint>
  <joint name="joint_163_Unterschenkel_L_P" type="revolute">
    <limit effort="100.0" velocity="3.0" lower="-1.5707963267948966" upper="1.5707963267948966"/>
    <parent link="link_163_Unterschenkel_L_R"/>
    <child link="link_163_Unterschenkel_L_P"/>
    <axis xyz="0. 1. 0."/>
    <origin xyz="0.0 0.0 0.0" rpy="0.0 0.0 0.0"/>
  </joint>
  <joint name="joint_163_Unterschenkel_L_Y" type="revolute">
    <limit effort="100.0" velocity="3.0" lower="-1.5707963267948966" upper="1.5707963267948966"/>
    <parent link="link_163_Unterschenkel_L_P"/>
    <child link="link_163_Unterschenkel_L_Y"/>
    <axis xyz="0. 0. 1."/>
    <origin xyz="0.0 0.0 0.0" rpy="0.0 0.0 0.0"/>
  </joint>
  <joint name="joint_164_Pfote1_L_R" type="revolute">
    <limit effort="100.0" velocity="3.0" lower="-1.5707963267948966" upper="1.5707963267948966"/>
    <parent link="link_163_Unterschenkel_L_Y"/>
    <child link="link_164_Pfote1_L_R"/>
    <axis xyz="1. 0. 0."/>
    <origin xyz="-0.0 0.11909 0.0" rpy="-0.579425 0.032097 -0.125695"/>
  </joint>
  <joint name="joint_164_Pfote1_L_P" type="revolute">
    <limit effort="100.0" velocity="3.0" lower="-1.5707963267948966" upper="1.5707963267948966"/>
    <parent link="link_164_Pfote1_L_R"/>
    <child link="link_164_Pfote1_L_P"/>
    <axis xyz="0. 1. 0."/>
    <origin xyz="0.0 0.0 0.0" rpy="0.0 0.0 0.0"/>
  </joint>
  <joint name="joint_164_Pfote1_L_Y" type="revolute">
    <limit effort="100.0" velocity="3.0" lower="-1.5707963267948966" upper="1.5707963267948966"/>
    <parent link="link_164_Pfote1_L_P"/>
    <child link="link_164_Pfote1_L_Y"/>
    <axis xyz="0. 0. 1."/>
    <origin xyz="0.0 0.0 0.0" rpy="0.0 0.0 0.0"/>
  </joint>
  <joint name="joint_165_Pfote2_L_R" type="revolute">
    <limit effort="100.0" velocity="3.0" lower="-1.5707963267948966" upper="1.5707963267948966"/>
    <parent link="link_164_Pfote1_L_Y"/>
    <child link="link_165_Pfote2_L_R"/>
    <axis xyz="1. 0. 0."/>
    <origin xyz="-0.0 0.098763 0.0" rpy="-1.581772 -0.076922 0.077736"/>
  </joint>
  <joint name="joint_165_Pfote2_L_P" type="revolute">
    <limit effort="100.0" velocity="3.0" lower="-1.5707963267948966" upper="1.5707963267948966"/>
    <parent link="link_165_Pfote2_L_R"/>
    <child link="link_165_Pfote2_L_P"/>
    <axis xyz="0. 1. 0."/>
    <origin xyz="0.0 0.0 0.0" rpy="0.0 0.0 0.0"/>
  </joint>
  <joint name="joint_165_Pfote2_L_Y" type="revolute">
    <limit effort="100.0" velocity="3.0" lower="-1.5707963267948966" upper="1.5707963267948966"/>
    <parent link="link_165_Pfote2_L_P"/>
    <child link="link_165_Pfote2_L_Y"/>
    <axis xyz="0. 0. 1."/>
    <origin xyz="0.0 0.0 0.0" rpy="0.0 0.0 0.0"/>
  </joint>
  <joint name="joint_167_Oberschenkel_R_R" type="revolute">
    <limit effort="100.0" velocity="3.0" lower="-1.5707963267948966" upper="1.5707963267948966"/>
    <parent link="base_link"/>
    <child link="link_167_Oberschenkel_R_R"/>
    <axis xyz="1. 0. 0."/>
    <origin xyz="-0.05837 0.0543 0.011532" rpy="1.31303 -0.110236 -0.069463"/>
  </joint>
  <joint name="joint_167_Oberschenkel_R_P" type="revolute">
    <limit effort="100.0" velocity="3.0" lower="-1.5707963267948966" upper="1.5707963267948966"/>
    <parent link="link_167_Oberschenkel_R_R"/>
    <child link="link_167_Oberschenkel_R_P"/>
    <axis xyz="0. 1. 0."/>
    <origin xyz="0.0 0.0 0.0" rpy="0.0 0.0 0.0"/>
  </joint>
  <joint name="joint_167_Oberschenkel_R_Y" type="revolute">
    <limit effort="100.0" velocity="3.0" lower="-1.5707963267948966" upper="1.5707963267948966"/>
    <parent link="link_167_Oberschenkel_R_P"/>
    <child link="link_167_Oberschenkel_R_Y"/>
    <axis xyz="0. 0. 1."/>
    <origin xyz="0.0 0.0 0.0" rpy="0.0 0.0 0.0"/>
  </joint>
  <joint name="joint_168_Unterschenkel_R_R" type="revolute">
    <limit effort="100.0" velocity="3.0" lower="-1.5707963267948966" upper="1.5707963267948966"/>
    <parent link="link_167_Oberschenkel_R_Y"/>
    <child link="link_168_Unterschenkel_R_R"/>
    <axis xyz="1. 0. 0."/>
    <origin xyz="0.0 0.168645 -0.0" rpy="0.652041 0.114489 -0.09771499999999998"/>
  </joint>
  <joint name="joint_168_Unterschenkel_R_P" type="revolute">
    <limit effort="100.0" velocity="3.0" lower="-1.5707963267948966" upper="1.5707963267948966"/>
    <parent link="link_168_Unterschenkel_R_R"/>
    <child link="link_168_Unterschenkel_R_P"/>
    <axis xyz="0. 1. 0."/>
    <origin xyz="0.0 0.0 0.0" rpy="0.0 0.0 0.0"/>
  </joint>
  <joint name="joint_168_Unterschenkel_R_Y" type="revolute">
    <limit effort="100.0" velocity="3.0" lower="-1.5707963267948966" upper="1.5707963267948966"/>
    <parent link="link_168_Unterschenkel_R_P"/>
    <child link="link_168_Unterschenkel_R_Y"/>
    <axis xyz="0. 0. 1."/>
    <origin xyz="0.0 0.0 0.0" rpy="0.0 0.0 0.0"/>
  </joint>
  <joint name="joint_169_Pfote1_R_R" type="revolute">
    <limit effort="100.0" velocity="3.0" lower="-1.5707963267948966" upper="1.5707963267948966"/>
    <parent link="link_168_Unterschenkel_R_Y"/>
    <child link="link_169_Pfote1_R_R"/>
    <axis xyz="1. 0. 0."/>
    <origin xyz="0.0 0.11909 0.0" rpy="-0.579415 -0.032098 0.12569400000000003"/>
  </joint>
  <joint name="joint_169_Pfote1_R_P" type="revolute">
    <limit effort="100.0" velocity="3.0" lower="-1.5707963267948966" upper="1.5707963267948966"/>
    <parent link="link_169_Pfote1_R_R"/>
    <child link="link_169_Pfote1_R_P"/>
    <axis xyz="0. 1. 0."/>
    <origin xyz="0.0 0.0 0.0" rpy="0.0 0.0 0.0"/>
  </joint>
  <joint name="joint_169_Pfote1_R_Y" type="revolute">
    <limit effort="100.0" velocity="3.0" lower="-1.5707963267948966" upper="1.5707963267948966"/>
    <parent link="link_169_Pfote1_R_P"/>
    <child link="link_169_Pfote1_R_Y"/>
    <axis xyz="0. 0. 1."/>
    <origin xyz="0.0 0.0 0.0" rpy="0.0 0.0 0.0"/>
  </joint>
  <joint name="joint_170_Pfote2_R_R" type="revolute">
    <limit effort="100.0" velocity="3.0" lower="-1.5707963267948966" upper="1.5707963267948966"/>
    <parent link="link_169_Pfote1_R_Y"/>
    <child link="link_170_Pfote2_R_R"/>
    <axis xyz="1. 0. 0."/>
    <origin xyz="0.0 0.098762 0.0" rpy="-1.581782 0.076922 -0.077736"/>
  </joint>
  <joint name="joint_170_Pfote2_R_P" type="revolute">
    <limit effort="100.0" velocity="3.0" lower="-1.5707963267948966" upper="1.5707963267948966"/>
    <parent link="link_170_Pfote2_R_R"/>
    <child link="link_170_Pfote2_R_P"/>
    <axis xyz="0. 1. 0."/>
    <origin xyz="0.0 0.0 0.0" rpy="0.0 0.0 0.0"/>
  </joint>
  <joint name="joint_170_Pfote2_R_Y" type="revolute">
    <limit effort="100.0" velocity="3.0" lower="-1.5707963267948966" upper="1.5707963267948966"/>
    <parent link="link_170_Pfote2_R_P"/>
    <child link="link_170_Pfote2_R_Y"/>
    <axis xyz="0. 0. 1."/>
    <origin xyz="0.0 0.0 0.0" rpy="0.0 0.0 0.0"/>
  </joint>
  <material name="mat_col_(0.8901960784313725, 0.10196078431372549, 0.10980392156862745)">
    <color rgba="0.89 0.1  0.11 1.  "/>
  </material>
  <material name="mat_col_(0.9921568627450981, 0.7490196078431373, 0.43529411764705883)">
    <color rgba="0.99 0.75 0.44 1.  "/>
  </material>
  <material name="mat_col_(0.6941176470588235, 0.34901960784313724, 0.1568627450980392)">
    <color rgba="0.69 0.35 0.16 1.  "/>
  </material>
  <material name="mat_col_(0.12156862745098039, 0.47058823529411764, 0.7058823529411765)">
    <color rgba="0.12 0.47 0.71 1.  "/>
  </material>
  <material name="mat_col_(1.0, 0.4980392156862745, 0.0)">
    <color rgba="1.  0.5 0.  1. "/>
  </material>
  <material name="mat_col_(0.2, 0.6274509803921569, 0.17254901960784313)">
    <color rgba="0.2  0.63 0.17 1.  "/>
  </material>
  <material name="mat_col_(0.984313725490196, 0.6039215686274509, 0.6)">
    <color rgba="0.98 0.6  0.6  1.  "/>
  </material>
  <material name="mat_col_(1.0, 1.0, 0.6)">
    <color rgba="1.  1.  0.6 1. "/>
  </material>
  <material name="mat_col_(0.6980392156862745, 0.8745098039215686, 0.5411764705882353)">
    <color rgba="0.7  0.87 0.54 1.  "/>
  </material>
  <material name="mat_col_(0.41568627450980394, 0.23921568627450981, 0.6039215686274509)">
    <color rgba="0.42 0.24 0.6  1.  "/>
  </material>
  <material name="mat_col_(0.6509803921568628, 0.807843137254902, 0.8901960784313725)">
    <color rgba="0.65 0.81 0.89 1.  "/>
  </material>
</robot>
